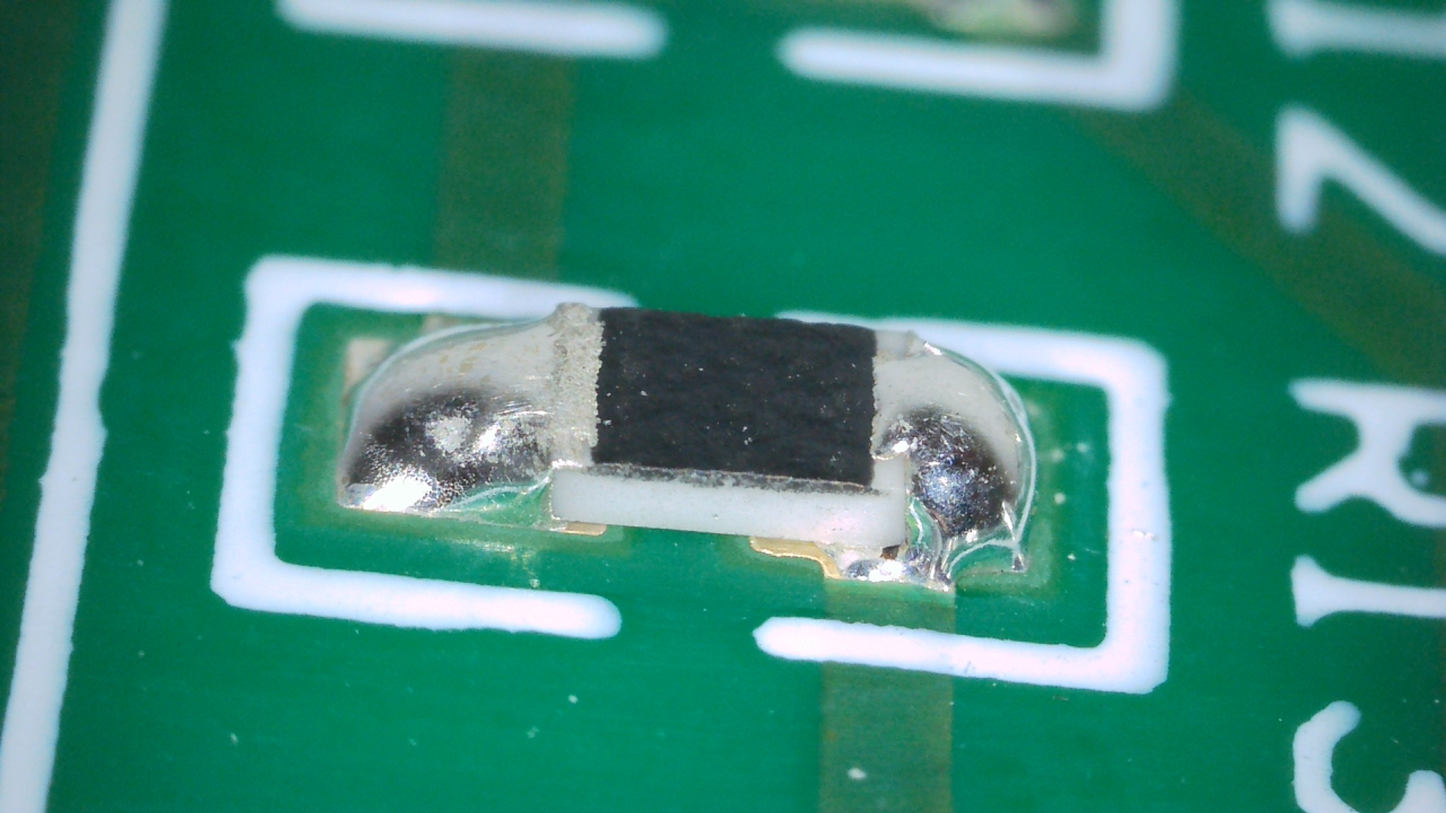NG: (808, 331, 1034, 588), (337, 305, 599, 508)
